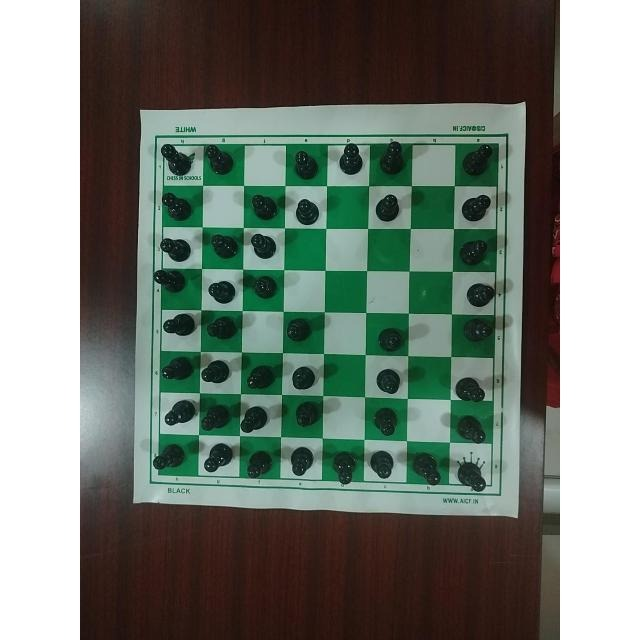black-pawn: (409, 448, 444, 487), (160, 397, 197, 433), (159, 311, 198, 345), (199, 441, 237, 475), (151, 440, 191, 472), (460, 144, 496, 179), (242, 444, 277, 480), (455, 316, 494, 348), (152, 268, 192, 299), (456, 235, 492, 269), (455, 456, 489, 492), (328, 447, 358, 487), (159, 143, 194, 177), (333, 142, 366, 178), (158, 353, 194, 385), (369, 365, 405, 397), (451, 372, 487, 404), (370, 404, 402, 440), (453, 412, 489, 444), (463, 277, 497, 310), (460, 191, 492, 225), (285, 443, 317, 477), (367, 448, 399, 482), (244, 363, 280, 393), (159, 190, 192, 222), (200, 354, 232, 387), (376, 142, 405, 178), (203, 144, 235, 176), (248, 190, 280, 222), (248, 231, 280, 263), (371, 191, 402, 224), (291, 148, 321, 182), (204, 314, 239, 343), (205, 232, 238, 262), (238, 405, 271, 435), (289, 400, 322, 430), (373, 325, 407, 353), (200, 402, 234, 430), (283, 317, 316, 345), (204, 279, 238, 306), (160, 235, 192, 263), (286, 364, 317, 392), (249, 273, 279, 301), (294, 194, 320, 225)
